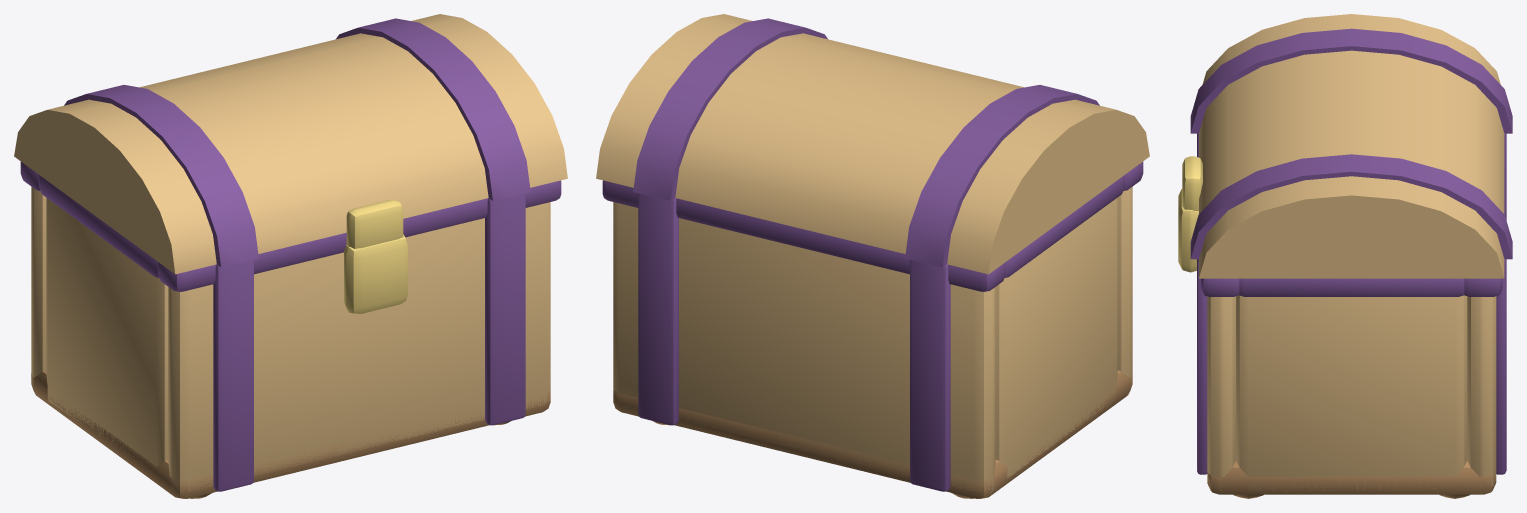
Rendered from CHEST.fbx.
3 renders of one model, left to right at view 1: azimuth 30°, elevation 25°; view 2: azimuth 150°, elevation 25°; view 3: azimuth 270°, elevation 25°, orthographic. The views are drawn at different scales.
Visible parts, largest first — view 1: Body, Lid; view 2: Body, Lid; view 3: Lid, Body.
Boxes of the visible parts, box(x1,y1,x2,y2) form: Body: box(20, 161, 561, 498); Lid: box(14, 14, 567, 274); Body: box(602, 161, 1143, 498); Lid: box(596, 14, 1149, 274); Lid: box(1182, 14, 1512, 278); Body: box(1178, 133, 1506, 498).
Bounding box in the file's own units: 1.04 × 0.87 × 0.81.
